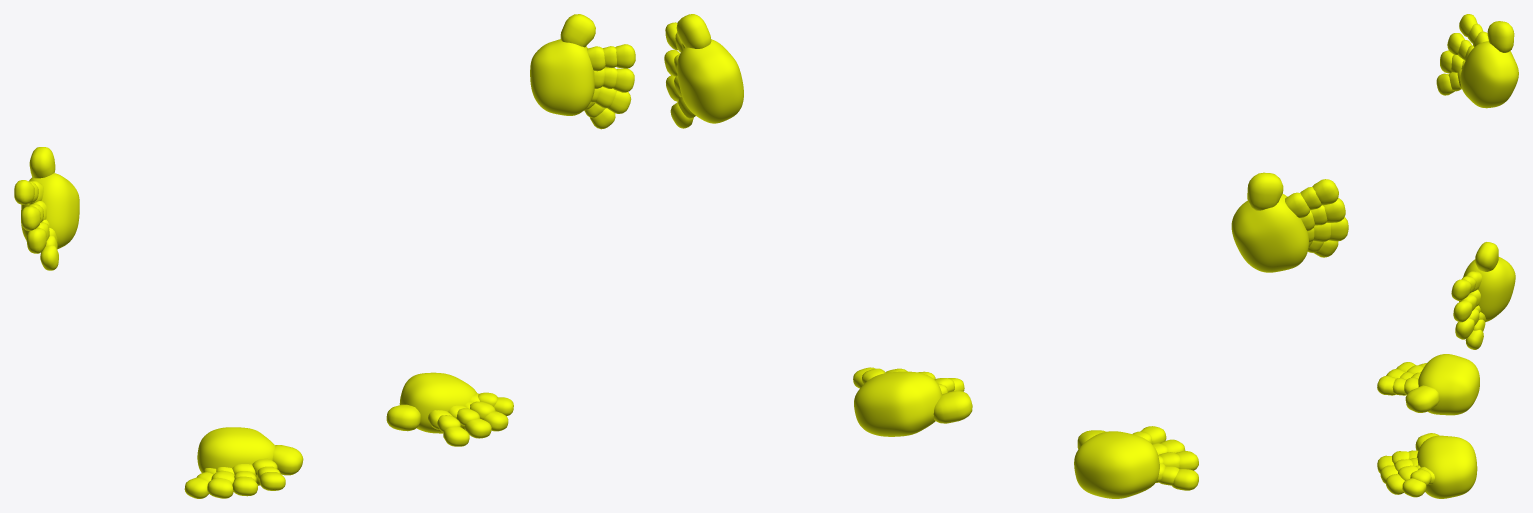
File: zone5-singe-yellow.gltf
3 renders of one model, left to right at view 1: azimuth 30°, elevation 25°; view 2: azimuth 150°, elevation 25°; view 3: azimuth 270°, elevation 25°, orthographic. The views are drawn at different scales.
Visible parts, largest first — view 1: Pieds et main; view 2: Pieds et main; view 3: Pieds et main.
Boxes of the visible parts, x1,y1,x2,y2 form: Pieds et main: [14, 14, 635, 498]; Pieds et main: [664, 14, 1348, 498]; Pieds et main: [1377, 14, 1518, 498].
Size of the model in its own units: 5.45 by 3.07 by 1.22.
